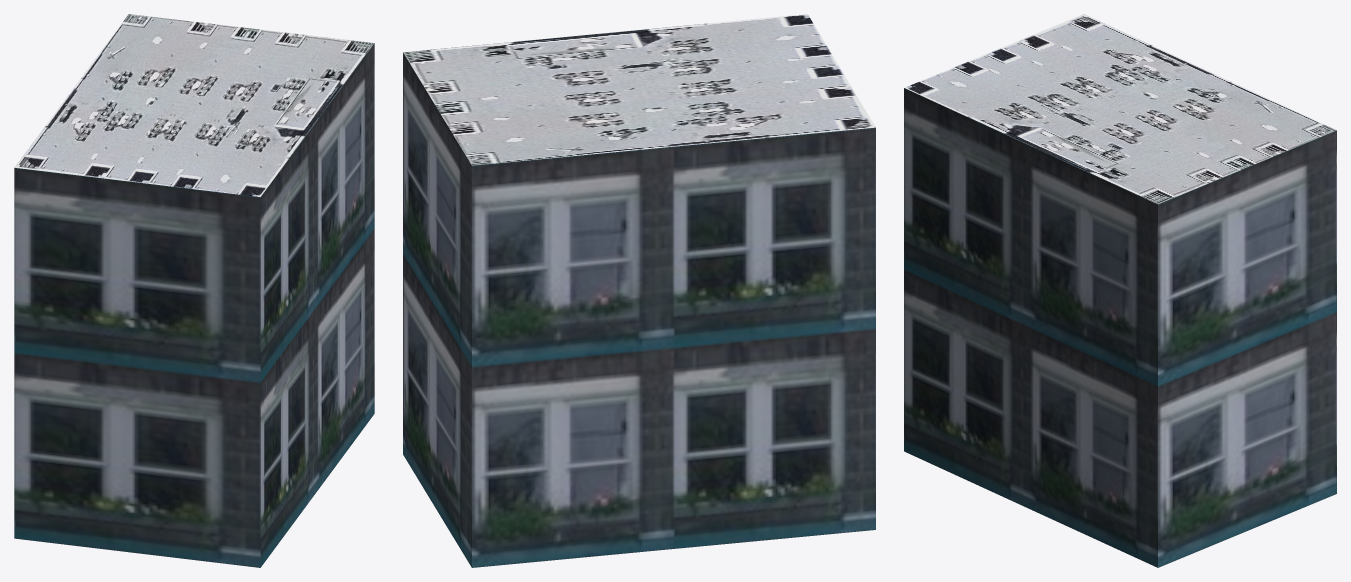
The model's file is ResTex__1642.fbx.
3 views of the same model, side by side, from view 1: azimuth 30°, elevation 25°; view 2: azimuth 150°, elevation 25°; view 3: azimuth 270°, elevation 25° (orthographic). The views are drawn at different scales.
Parts seen in each view (by area): view 1: CityEngineMaterial_11_m, CityEngineMaterial_4_m; view 2: CityEngineMaterial_11_m, CityEngineMaterial_4_m; view 3: CityEngineMaterial_11_m, CityEngineMaterial_4_m.
Part boxes in pixels (x1,y1,x2,y2): CityEngineMaterial_11_m: (14, 43, 374, 567); CityEngineMaterial_4_m: (14, 14, 374, 196); CityEngineMaterial_11_m: (403, 52, 875, 567); CityEngineMaterial_4_m: (403, 14, 875, 165); CityEngineMaterial_11_m: (904, 88, 1336, 567); CityEngineMaterial_4_m: (904, 14, 1336, 204).
Bounding box in the file's own units: 6.74 × 6 × 6.47.
2 materials, 2 textured.
